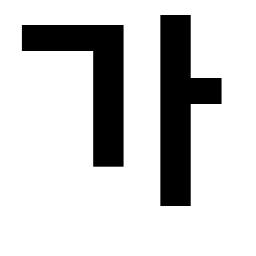Gaji: (148, 65, 210, 121)
